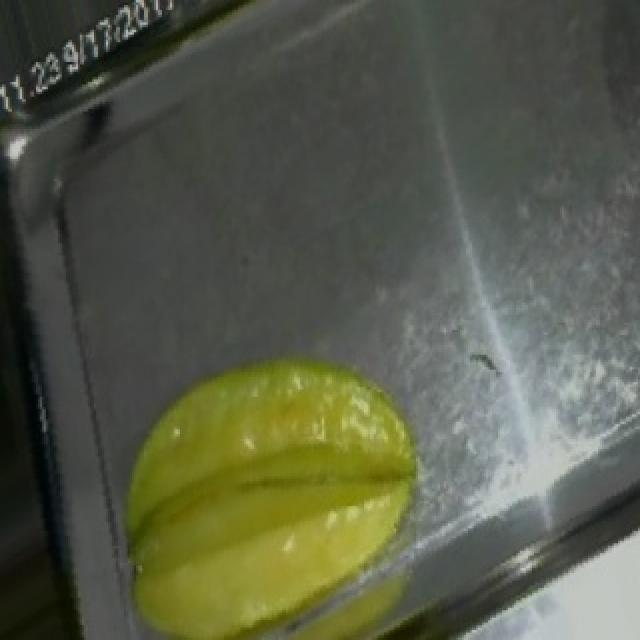fruit: (56, 300, 474, 640)
